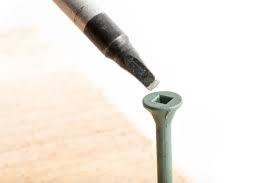screwdriver: (51, 0, 157, 91)
